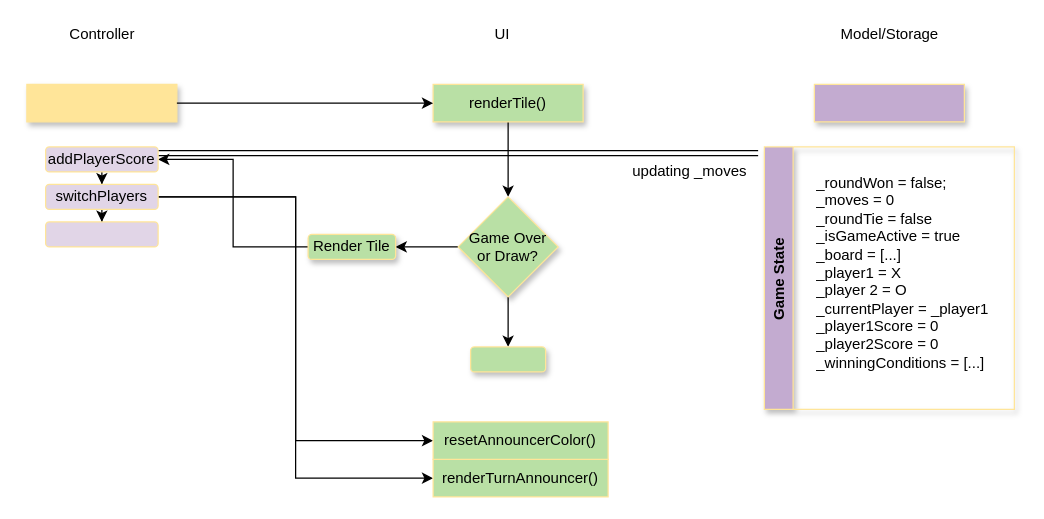
The diagram is 1044 pixels wide and 519 high, and some of its shapes have lost their labels. The shapes that lost their labels are listed below. From the top down, each one's centre as x and y in pixels, then its label:
At point 102,104: "playerAction()".
At point 890,104: "gameBoard {}".
At point 101,234: "renderScoreBoard".
At point 508,361: "Return".
